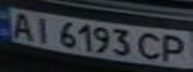1: (72, 21, 93, 52)
3: (112, 26, 136, 59)
6: (54, 19, 78, 48)
9: (90, 24, 112, 55)
A: (6, 10, 39, 39)
C: (136, 29, 169, 62)
I: (27, 15, 57, 44)
P: (157, 32, 193, 63)
